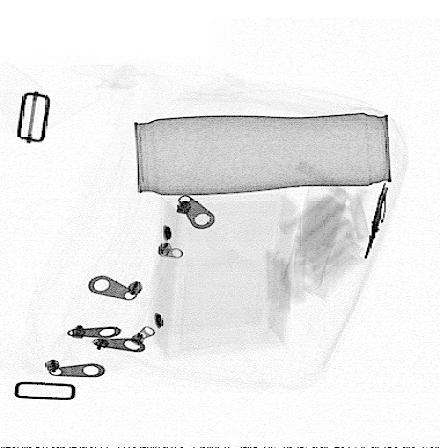Scissors: (360, 180, 389, 263)
